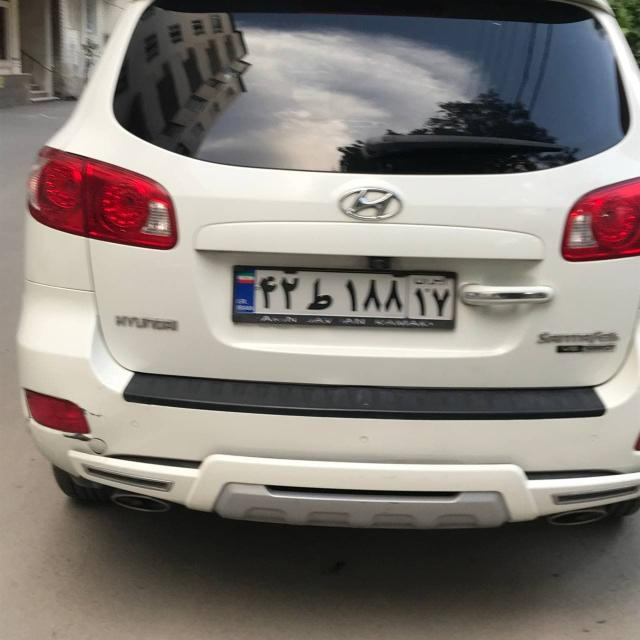Plates: (231, 268, 455, 323)
